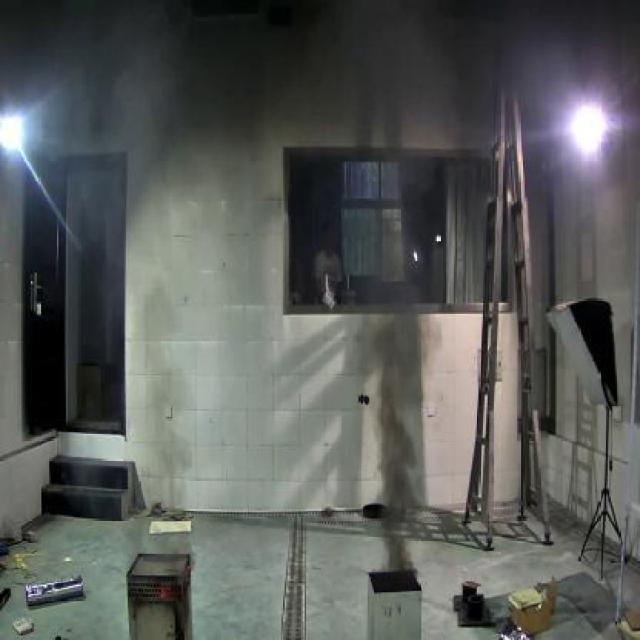fire: (356, 282, 430, 568)
